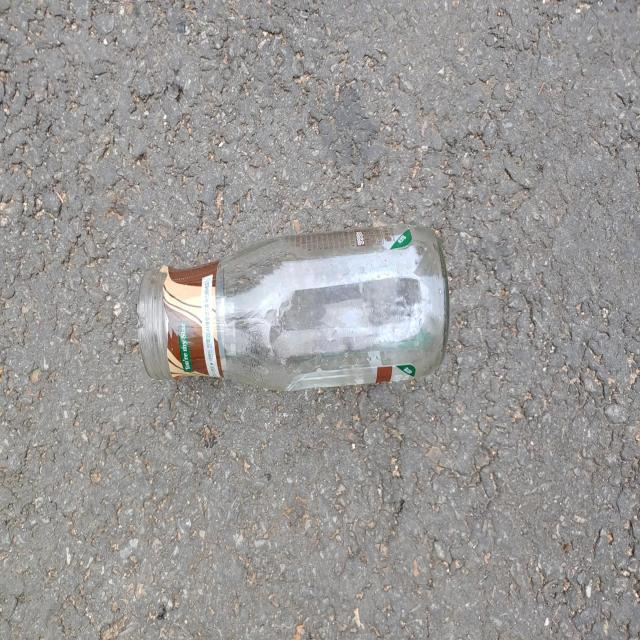glass: (137, 224, 450, 390)
